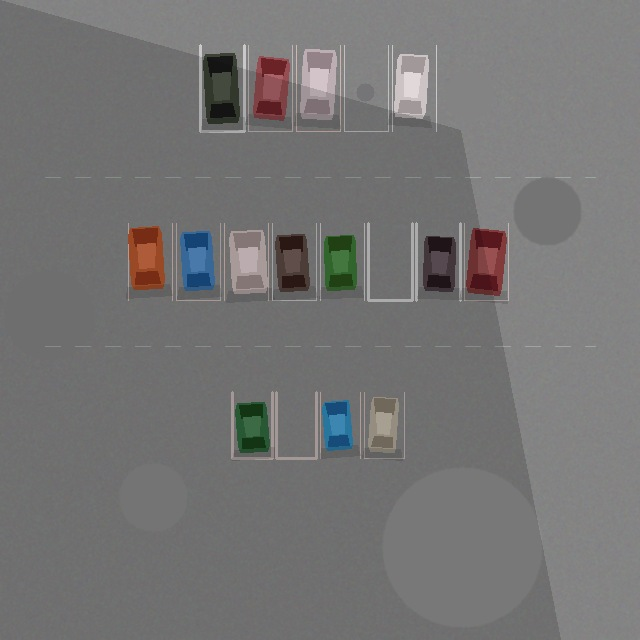space-empty: (344, 45, 388, 131), (368, 223, 412, 300), (276, 392, 316, 458)
space-occupied: (200, 45, 244, 131), (248, 45, 292, 131), (296, 45, 340, 131), (392, 45, 436, 131), (128, 223, 172, 300), (176, 223, 220, 300), (224, 223, 268, 300), (272, 223, 316, 300), (320, 223, 364, 300), (416, 223, 460, 300), (464, 223, 508, 300), (232, 392, 272, 458), (320, 392, 360, 458), (364, 392, 404, 458)
